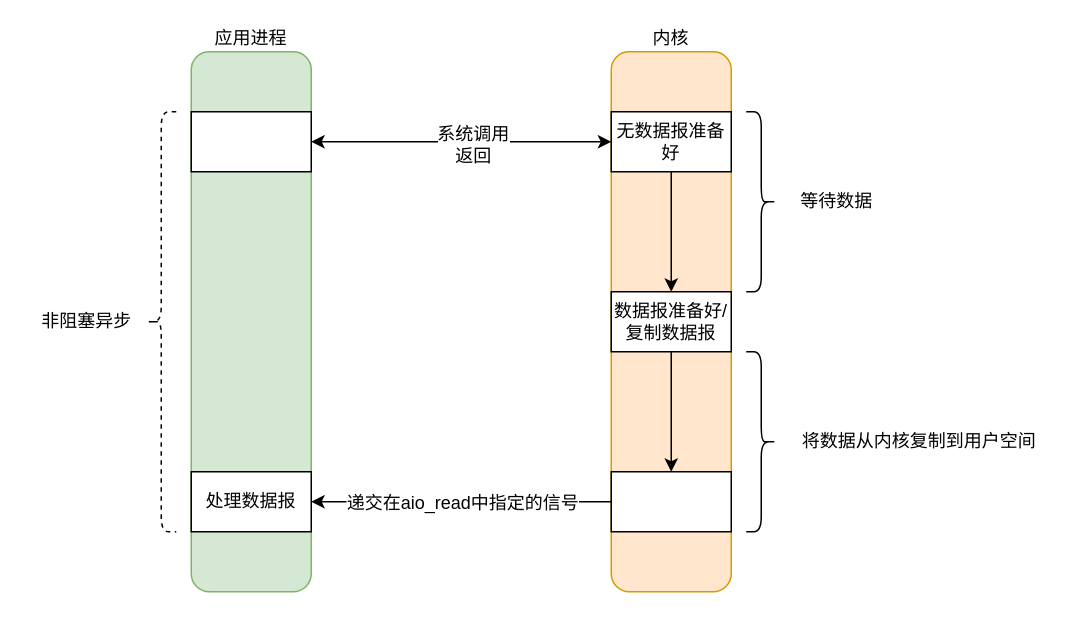
This 1071x618 diagram has some shape labels left out. The shapes that lost their labels are listed below. From the top down, each one's centre as x and y in pixels, then its label:
At (250,141): "aio_read".
At (670,501): "复制完成".
